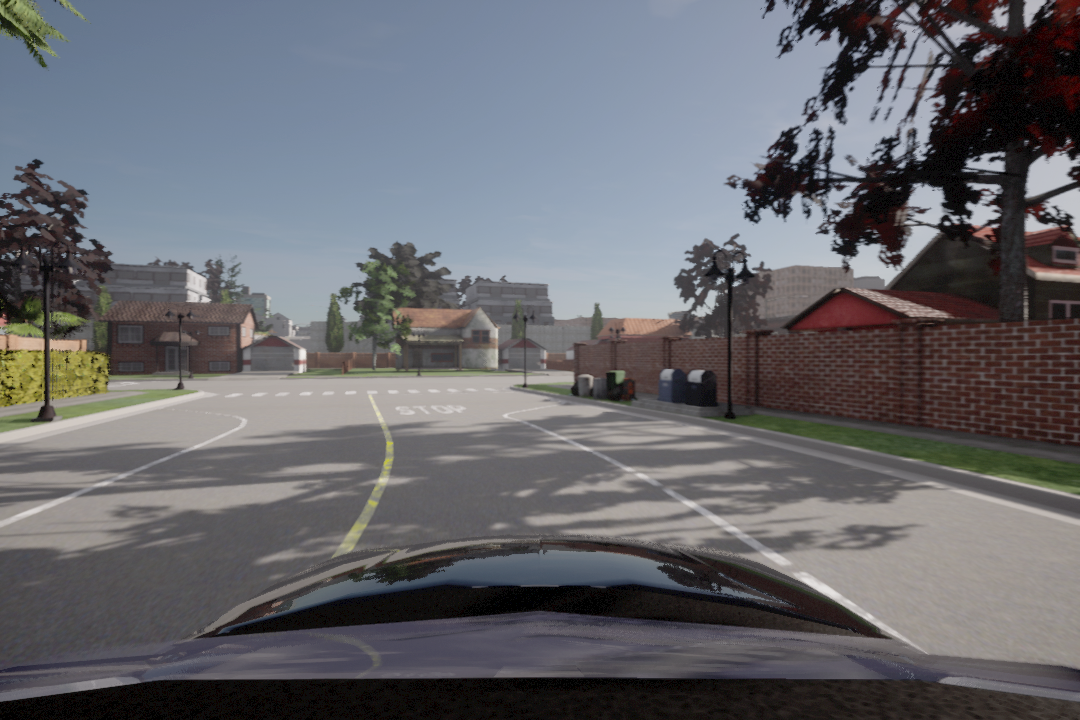walkside: (198, 384, 519, 401)
